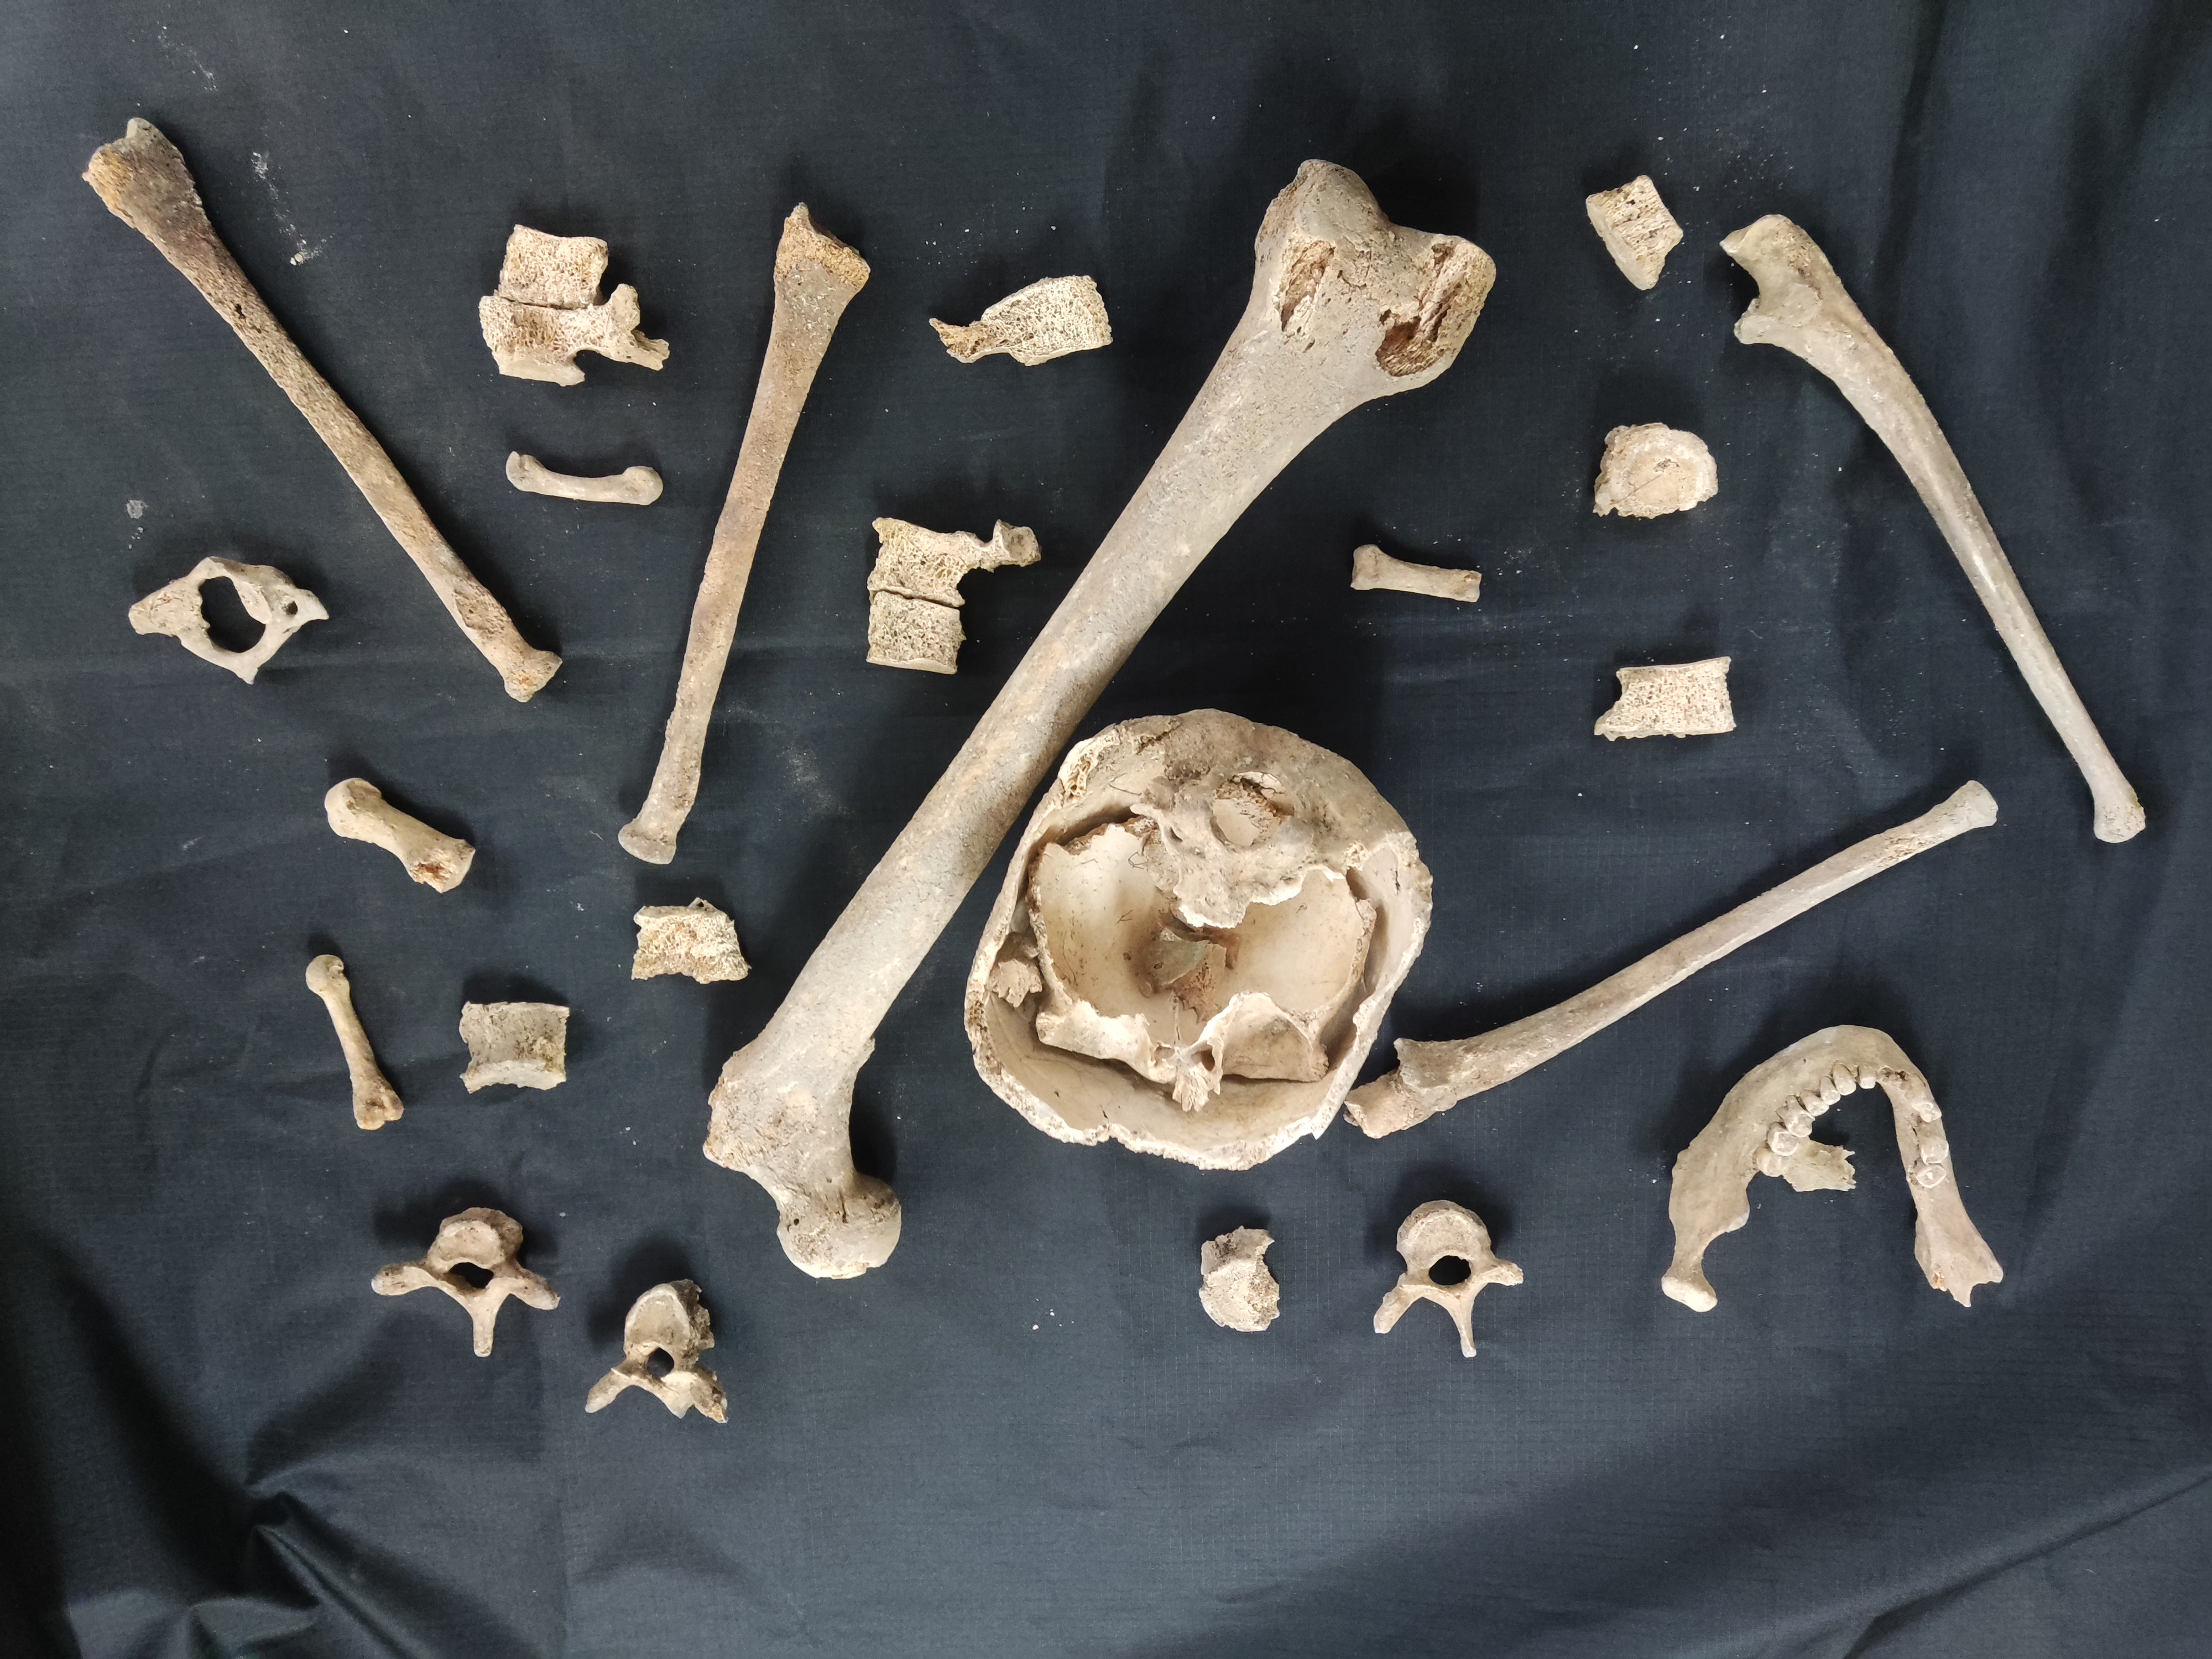бедренная: (695, 150, 1507, 1284)
грудной позвонок: (366, 1201, 561, 1363), (1353, 1195, 1527, 1359), (583, 1260, 740, 1429)
локтевая: (1710, 207, 2141, 845), (1341, 775, 2001, 1147)
лучевая: (70, 113, 570, 708), (608, 228, 883, 859)
сломанный позвонок: (961, 713, 1432, 1164), (463, 207, 667, 392), (862, 505, 1029, 674), (916, 272, 1115, 366), (1587, 420, 1723, 521), (1578, 174, 1683, 296), (1587, 659, 1740, 739), (449, 997, 571, 1091), (1186, 1229, 1291, 1335), (624, 901, 745, 979)
стопа: (305, 770, 488, 896), (296, 943, 411, 1129), (496, 441, 667, 509), (1345, 537, 1482, 608)
челюсть: (1649, 1021, 2003, 1303)
шейный позвонок: (129, 533, 333, 687)
